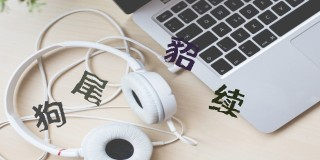尾: (71, 69, 109, 106)
狗: (31, 99, 65, 133)
续: (208, 83, 242, 118)
貂: (163, 33, 200, 73)
